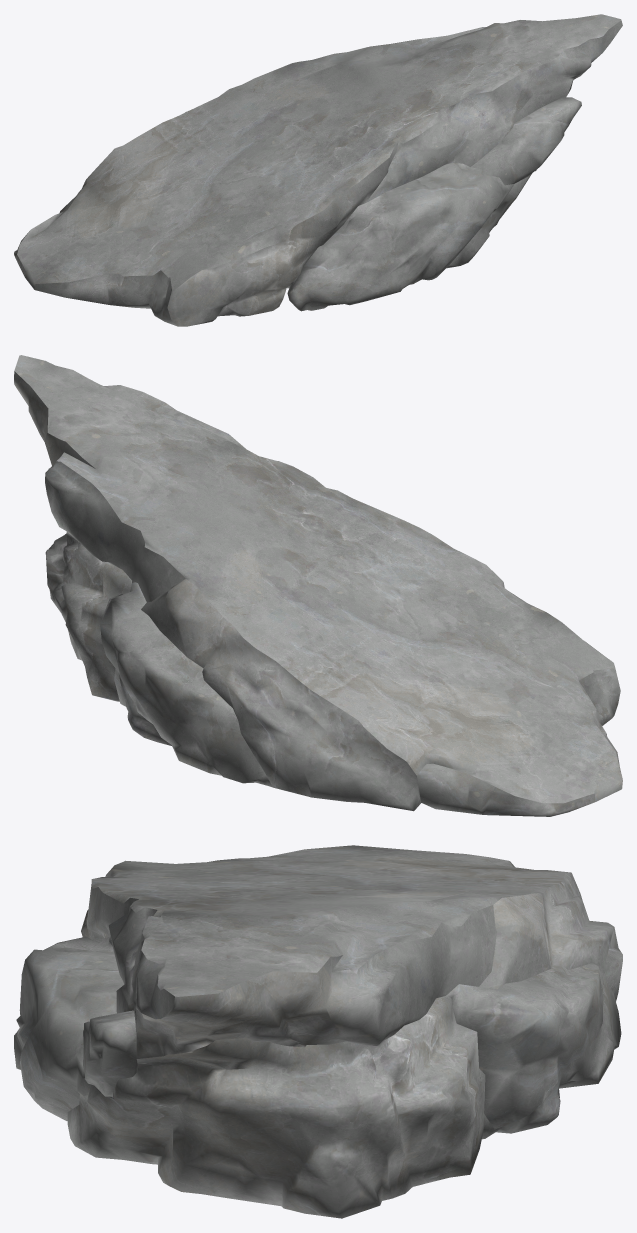
File: SM_Com_Roc_45AM.fbx
3 renders of one model, top to bottom at view 1: azimuth 30°, elevation 25°; view 2: azimuth 150°, elevation 25°; view 3: azimuth 270°, elevation 25°, orthographic. The views are drawn at different scales.
Visible parts, largest first — view 1: SM_Com_Roc_45AM.mo; view 2: SM_Com_Roc_45AM.mo; view 3: SM_Com_Roc_45AM.mo.
Boxes of the visible parts, left/top/right/bottom form: SM_Com_Roc_45AM.mo: left=14, top=14, right=622, bottom=326; SM_Com_Roc_45AM.mo: left=14, top=355, right=622, bottom=816; SM_Com_Roc_45AM.mo: left=14, top=845, right=622, bottom=1218.
Size of the model in its own units: 129 by 42.61 by 74.26.
